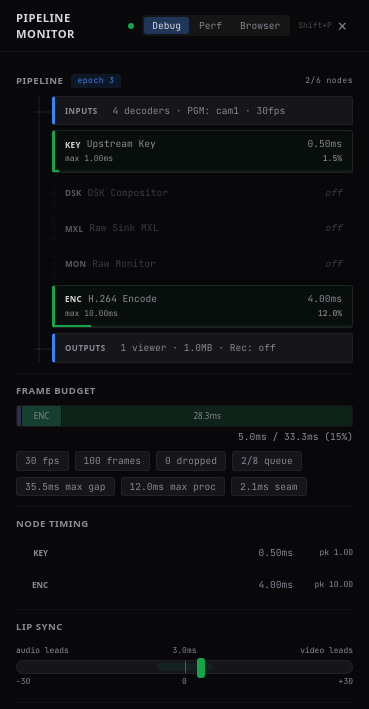
StatsPanel › formats negative PTS as placeholder
Click the button with class "toggle-btn" showing "Browser".
click(260, 26)  # box [232,17,288,34]
Wait 100 ms
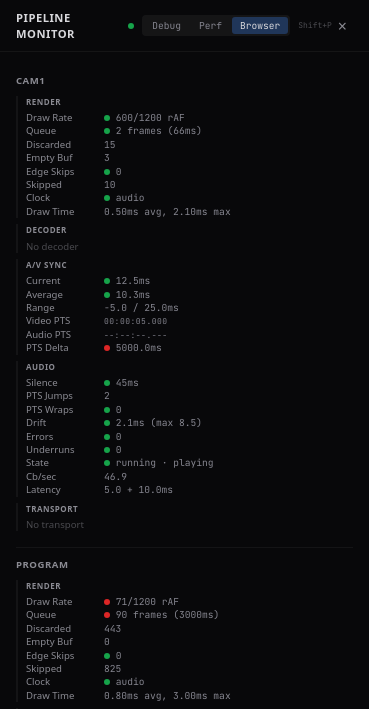
Expected: the element with class "stats-panel" shows "--:--:--.---", [104,330,168,340]
